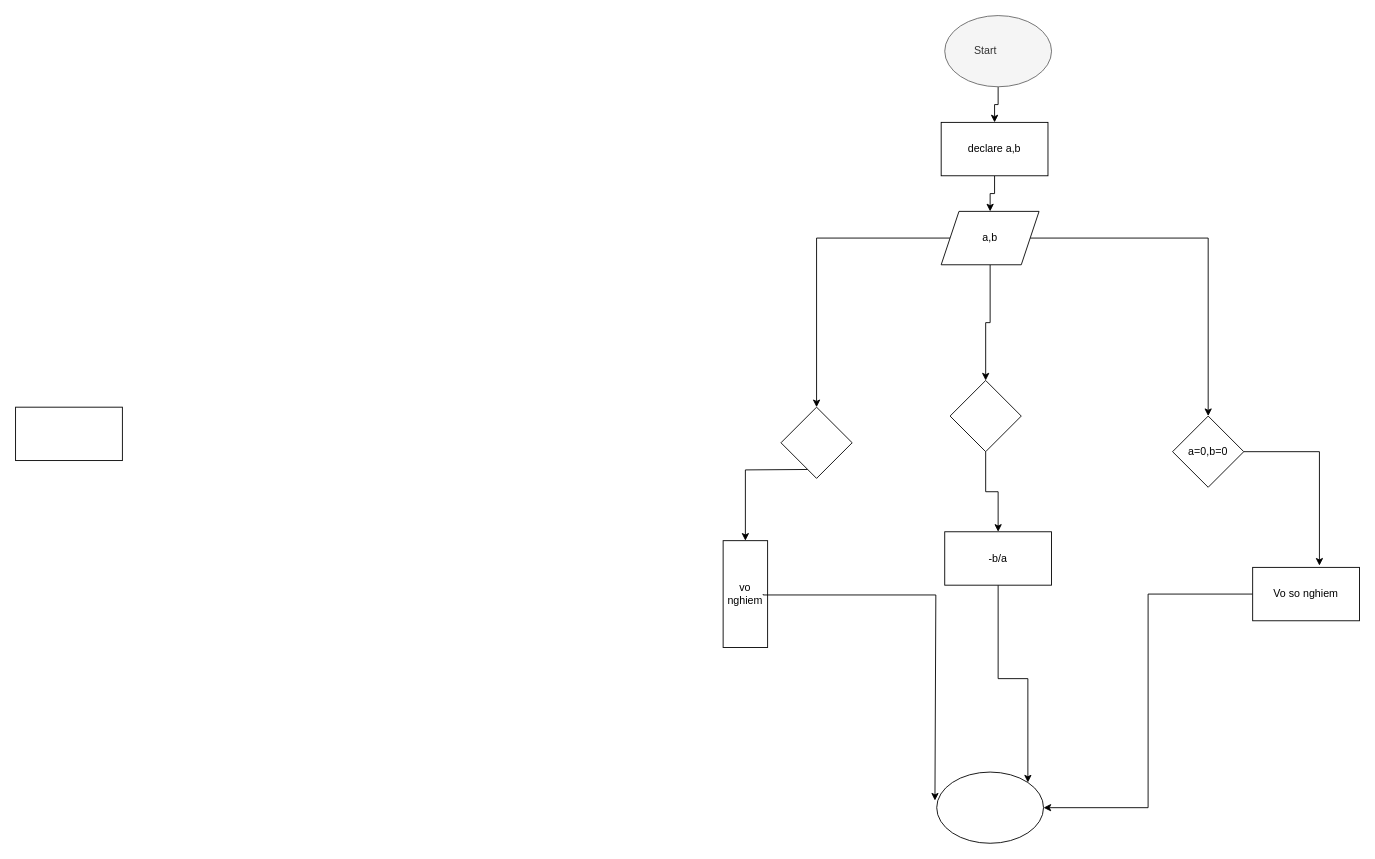
This 1375x859 diagram has some shape labels left out. The shapes that lost their labels are listed below. From the top down, each one's centre as x and y in pixels, then its label:
At (985,416): "a!=0".
At (816,442): "a=0,b!=0".
At (990,807): "In ket qua".
